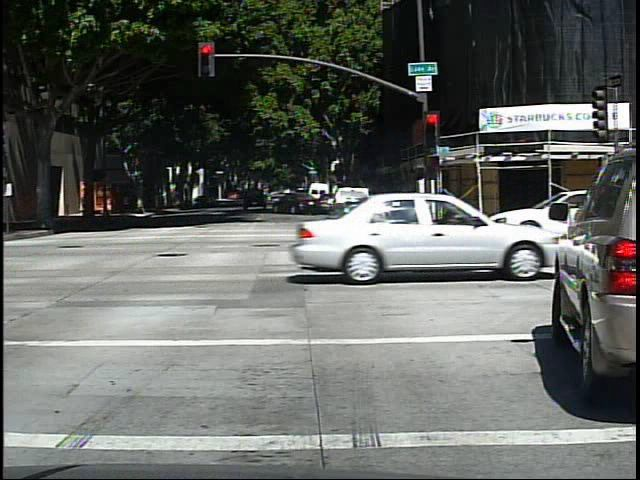person: (76, 186, 92, 220)
